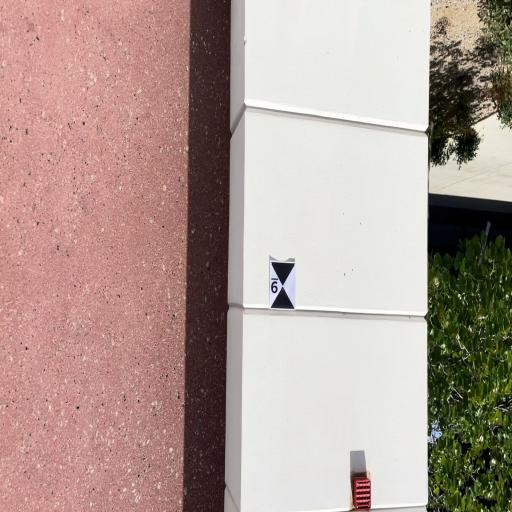target9: (269, 259, 295, 310)
